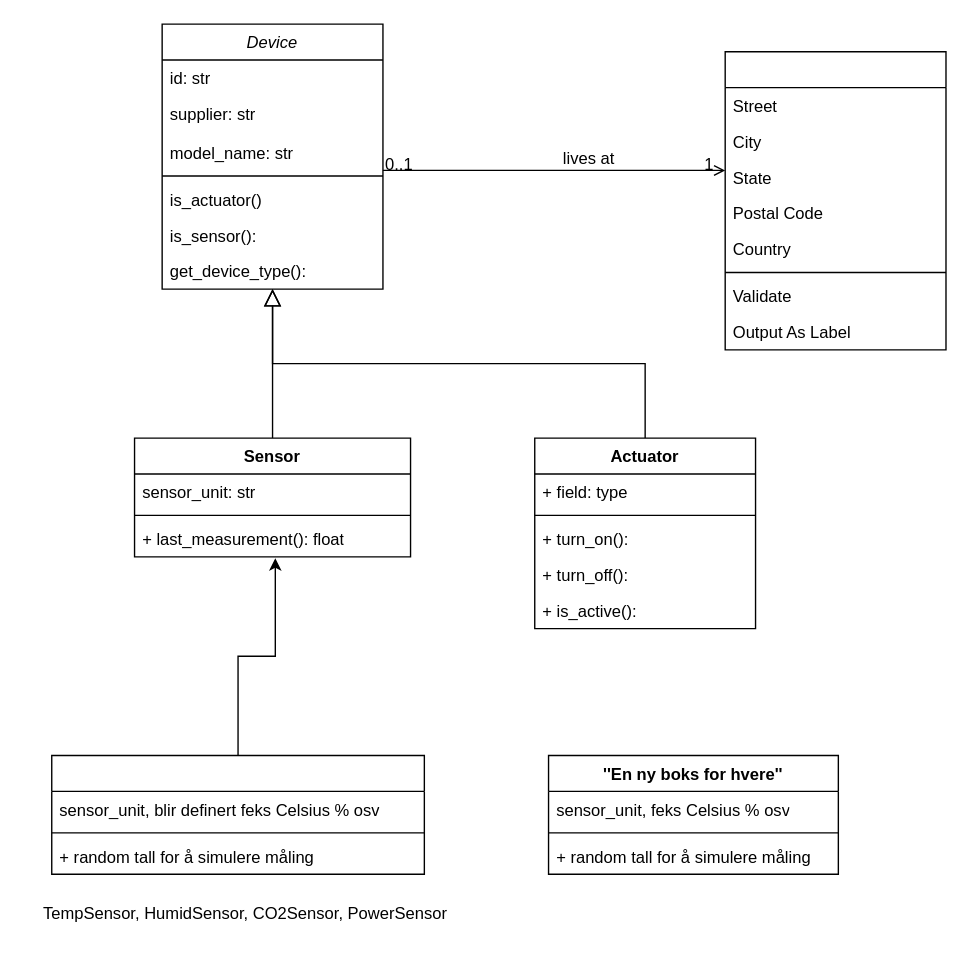
Some shapes in this 970 by 959 pixel diagram are drawn without their labels. Each missing label, with the box of its shape:
''En ny boks for hver sensor type'': (50, 754, 424, 874)
Address: (724, 50, 946, 350)
